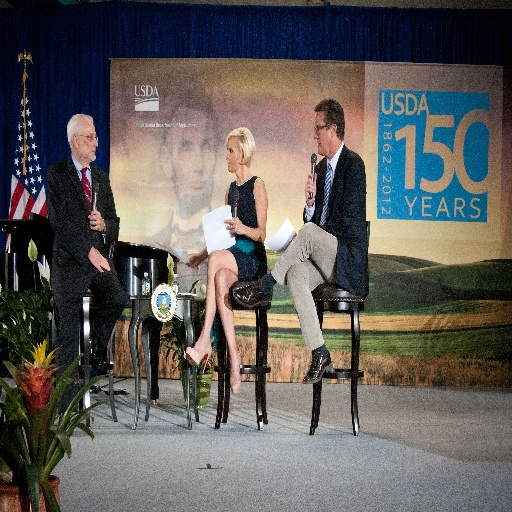hand: (88, 247, 111, 272), (302, 169, 318, 204), (222, 215, 245, 235), (87, 208, 104, 232), (183, 254, 201, 268)
